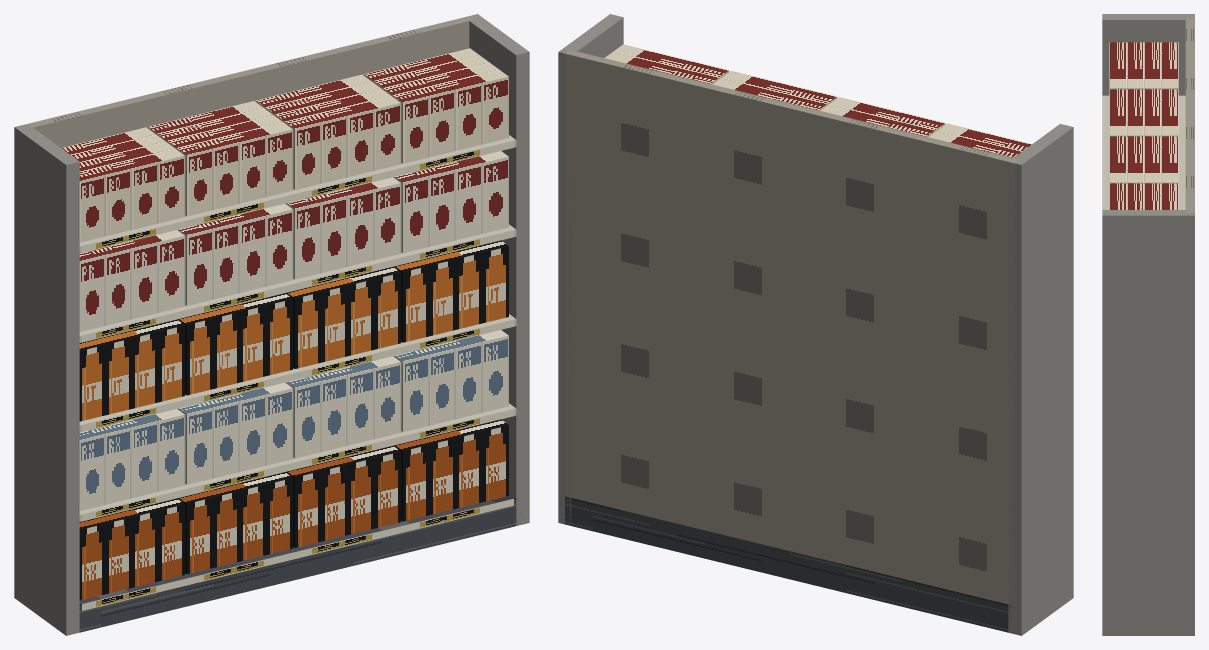
Rendered from COM_DispensaryShelf.glb.
3 renders of one model, left to right at view 1: azimuth 30°, elevation 25°; view 2: azimuth 150°, elevation 25°; view 3: azimuth 270°, elevation 25°, orthographic. The views are drawn at different scales.
Visible parts, largest first — view 1: COM_DispensaryShelf_Mesh; view 2: COM_DispensaryShelf_Mesh; view 3: COM_DispensaryShelf_Mesh.
Part boxes in pixels (x1,y1,x2,y2): COM_DispensaryShelf_Mesh: (14,14,529,635); COM_DispensaryShelf_Mesh: (558,14,1073,635); COM_DispensaryShelf_Mesh: (1102,14,1194,635).
Size of what is drawn, in the model's own units: 2.06 by 2 by 0.401.
1 material, 1 textured.
